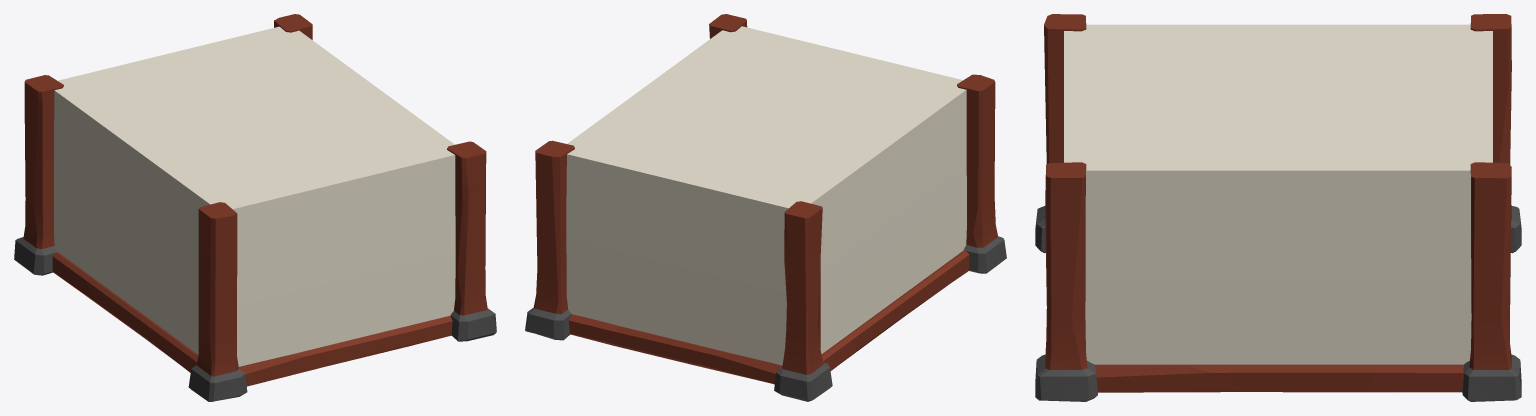
The model's file is House_1Floor_A.fbx.
3 renders of one model, left to right at view 1: azimuth 30°, elevation 25°; view 2: azimuth 150°, elevation 25°; view 3: azimuth 270°, elevation 25°, orthographic. The views are drawn at different scales.
Parts seen in each view (by area): view 1: House_1Floor_A; view 2: House_1Floor_A; view 3: House_1Floor_A.
Boxes of the visible parts, bbox=[...] form: House_1Floor_A: bbox=[14, 14, 496, 401]; House_1Floor_A: bbox=[525, 14, 1006, 401]; House_1Floor_A: bbox=[1035, 14, 1521, 401].
Size of the model in its own units: 405 by 244 by 484.
